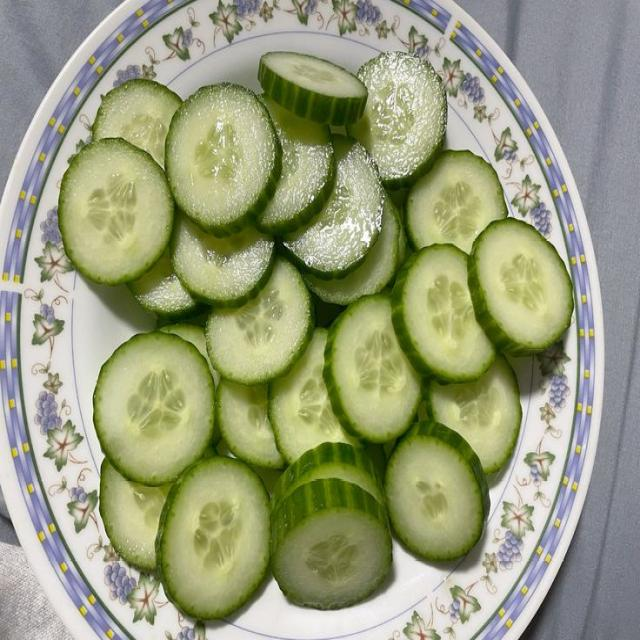cucumber sliced: (156, 456, 269, 619), (94, 332, 214, 485), (166, 84, 281, 235), (59, 138, 173, 284), (271, 479, 392, 608), (283, 136, 385, 279), (468, 218, 573, 354), (385, 423, 489, 560), (324, 295, 420, 442), (393, 245, 494, 381), (206, 259, 313, 384), (348, 53, 446, 188), (269, 329, 359, 463), (427, 355, 521, 474), (255, 97, 335, 235), (406, 150, 507, 252), (306, 198, 401, 306), (171, 216, 274, 307), (100, 458, 170, 571), (259, 52, 366, 125), (272, 442, 385, 510), (92, 79, 181, 165), (216, 381, 285, 468), (127, 250, 198, 318), (159, 323, 220, 388), (159, 323, 220, 386)
